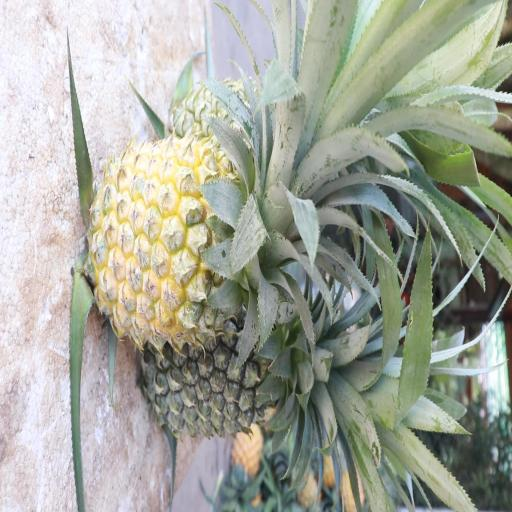Pineapple - v8 v1: (91, 131, 304, 340)
